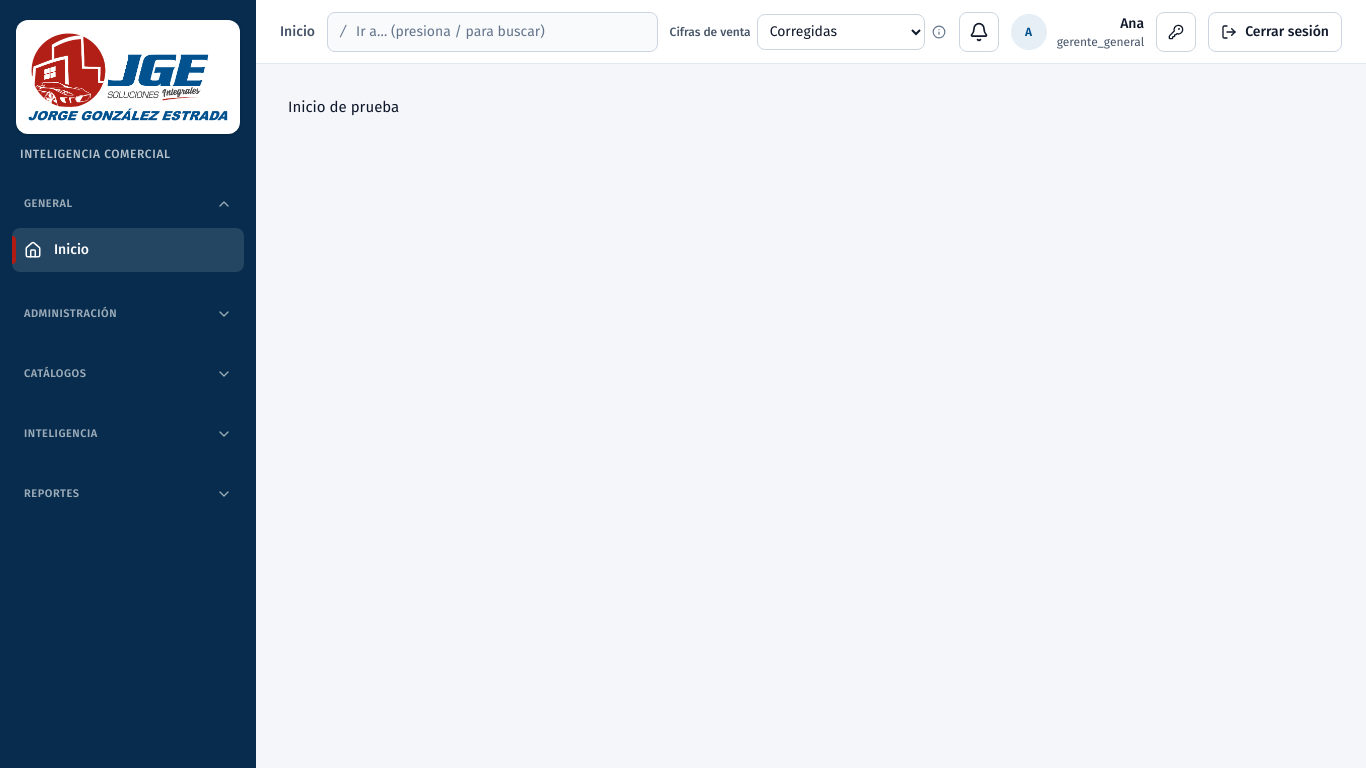
Test case: menú principal con opciones ocultas › «Menú por usuario» solo lo ve un administrador
Click the button "Administración": click(128, 314) x1=12 y1=296 x2=244 y2=332
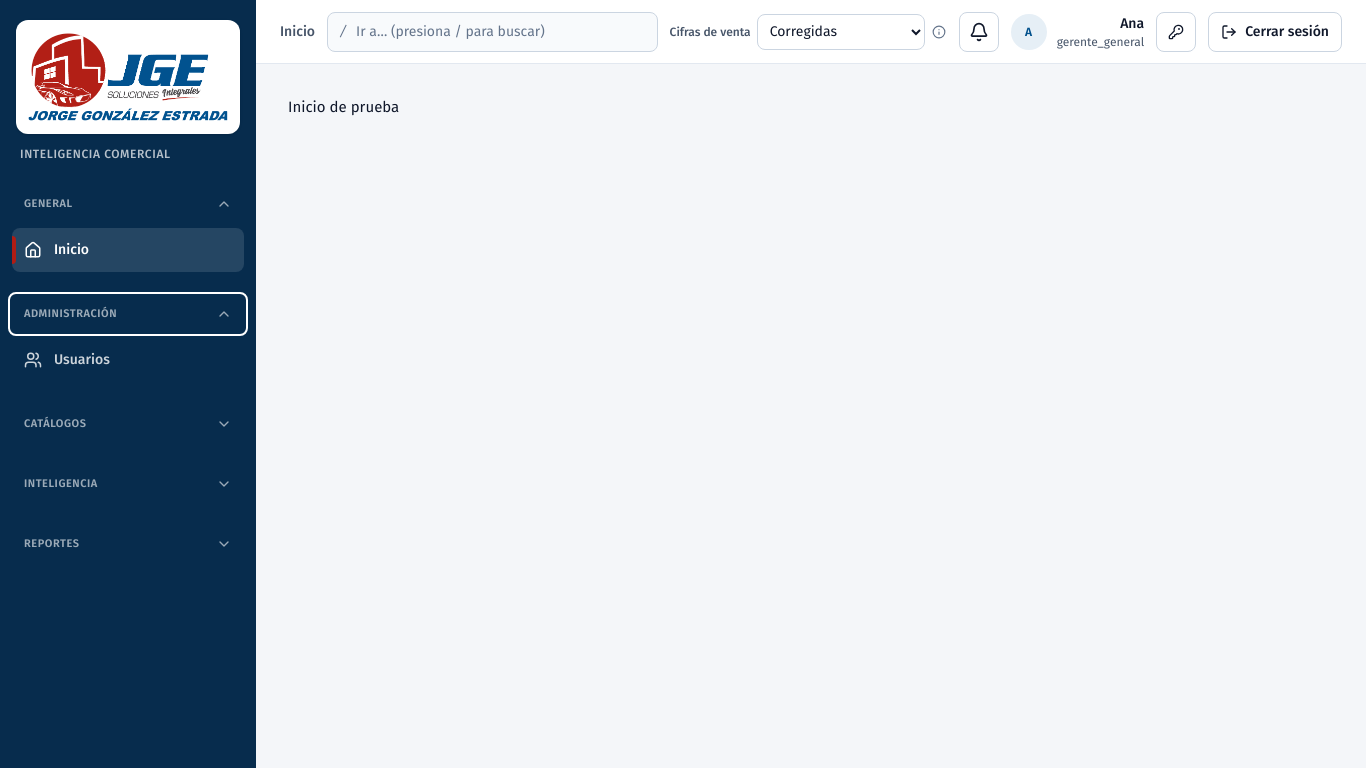
Expected: the link "Usuarios" is shown, x1=24 y1=351 x2=110 y2=369
